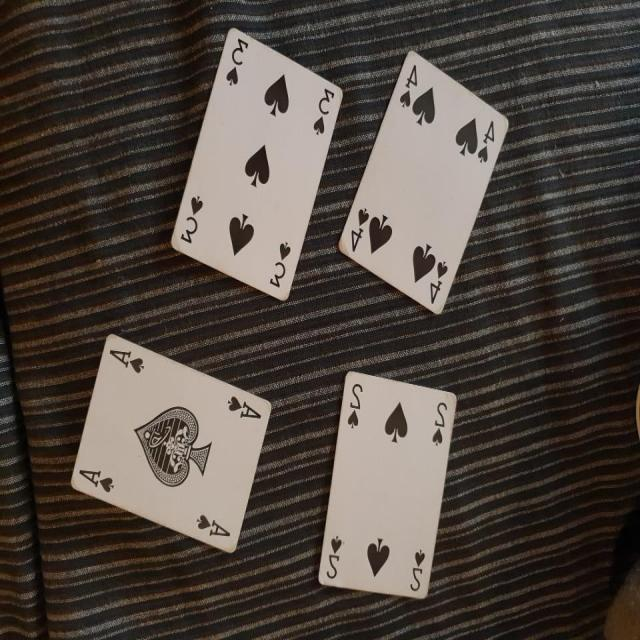2 of spades: (306, 366, 464, 606)
3 of spades: (164, 0, 346, 312)
4 of spades: (330, 1, 520, 330)
ace of spades: (66, 329, 274, 556)
